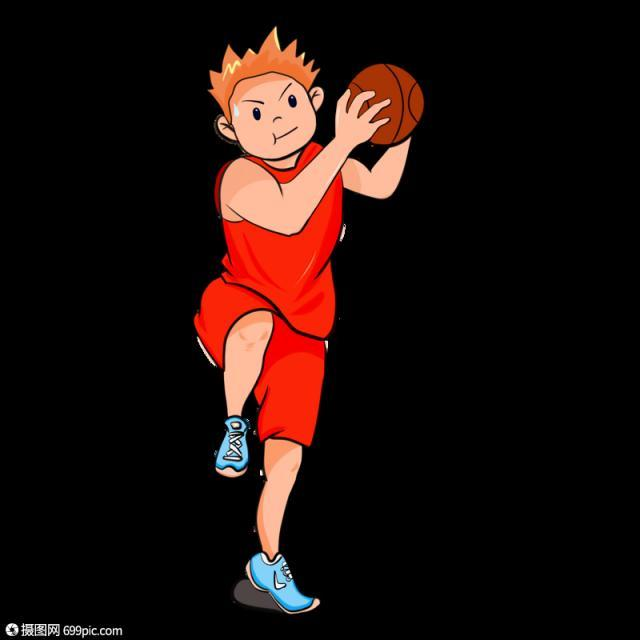rim: (342, 56, 431, 146)
